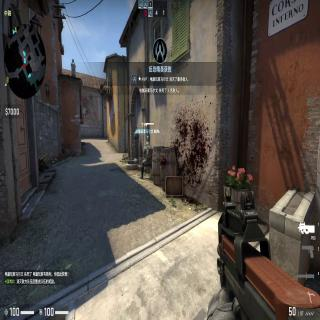CT-Body: (141, 141, 153, 180)
CT-Head: (145, 141, 150, 146)
